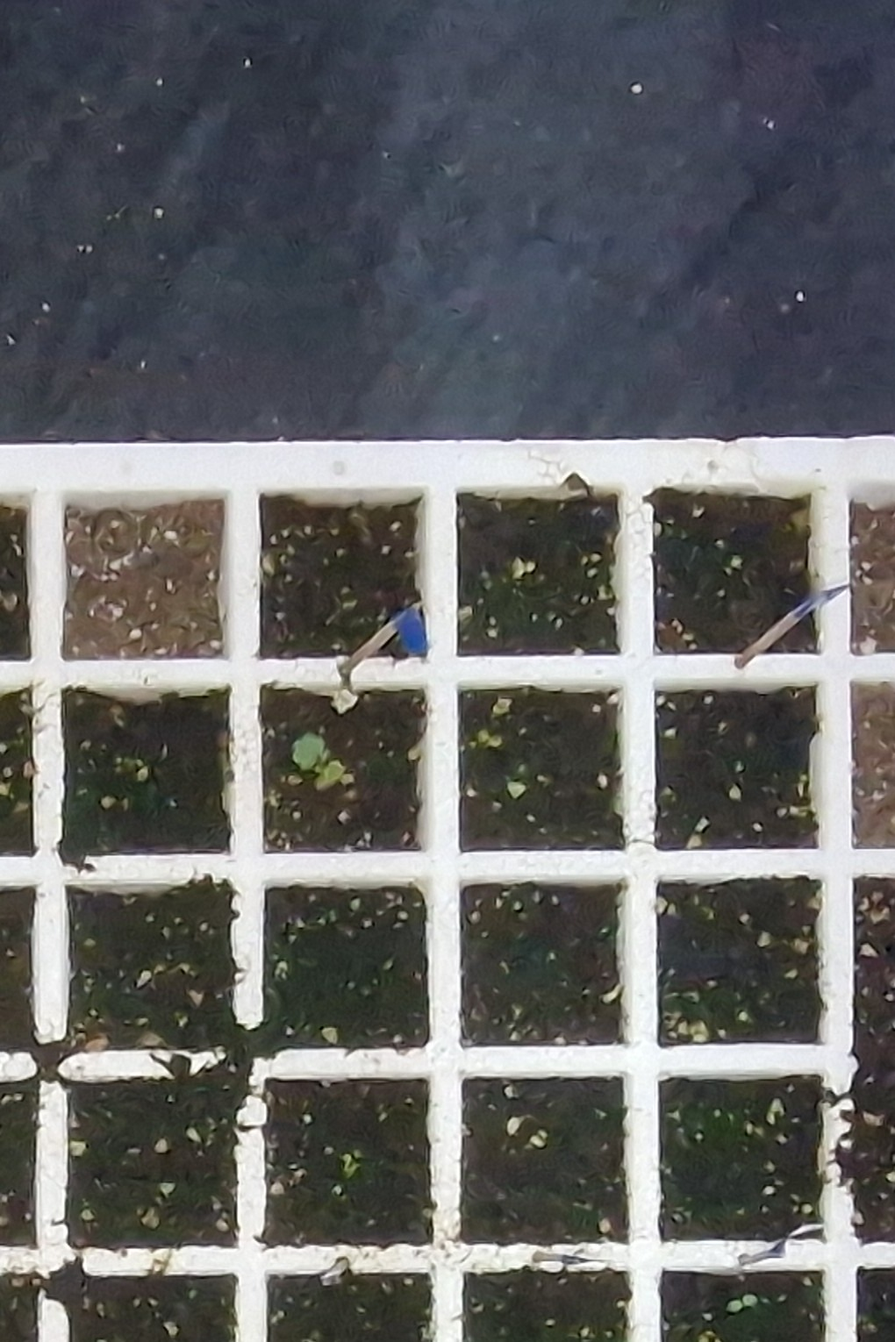Folha: (292, 732, 323, 771), (326, 762, 344, 782), (728, 1300, 743, 1311), (743, 1295, 757, 1306)
Germinacao: (294, 731, 347, 782), (728, 1294, 757, 1313)
